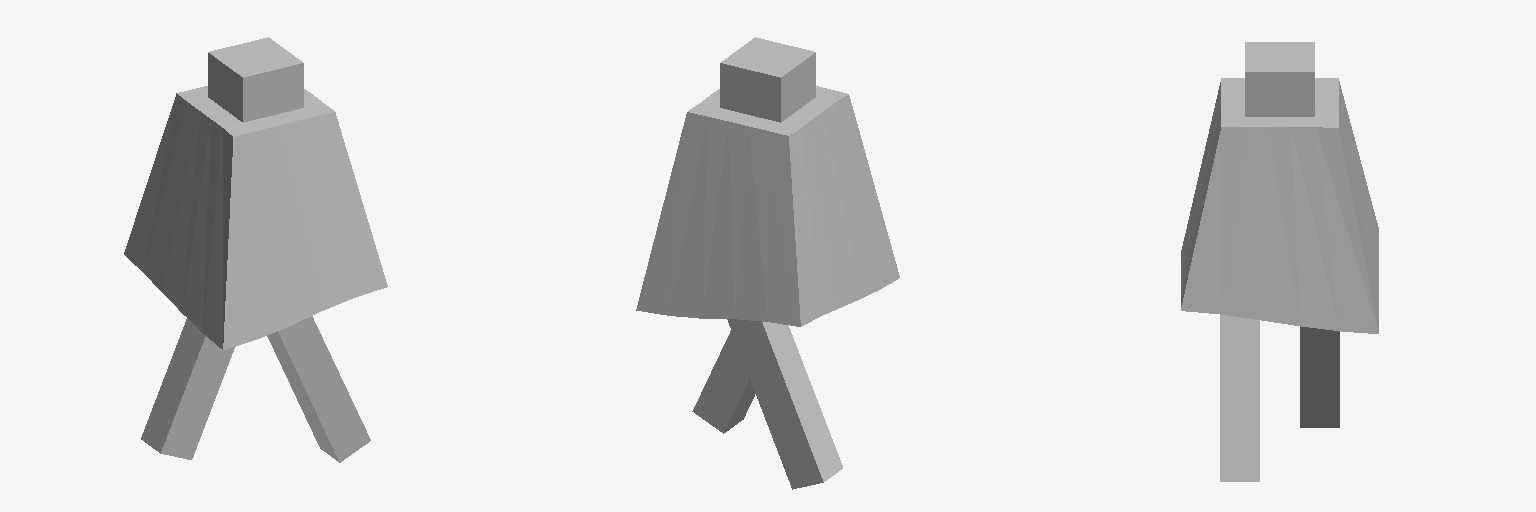
Rendered from essai_000013.obj.
3 renders of one model, left to right at view 1: azimuth 30°, elevation 25°; view 2: azimuth 150°, elevation 25°; view 3: azimuth 270°, elevation 25°, orthographic.
Parts seen in each view (by area): view 1: Cube; view 2: Cube; view 3: Cube.
Boxes of the visible parts, x1=… form: Cube: x1=124, y1=37, x2=387, y2=462; Cube: x1=636, y1=37, x2=899, y2=489; Cube: x1=1181, y1=42, x2=1378, y2=481.
Bounding box in the file's own units: 1.99 × 4.41 × 2.